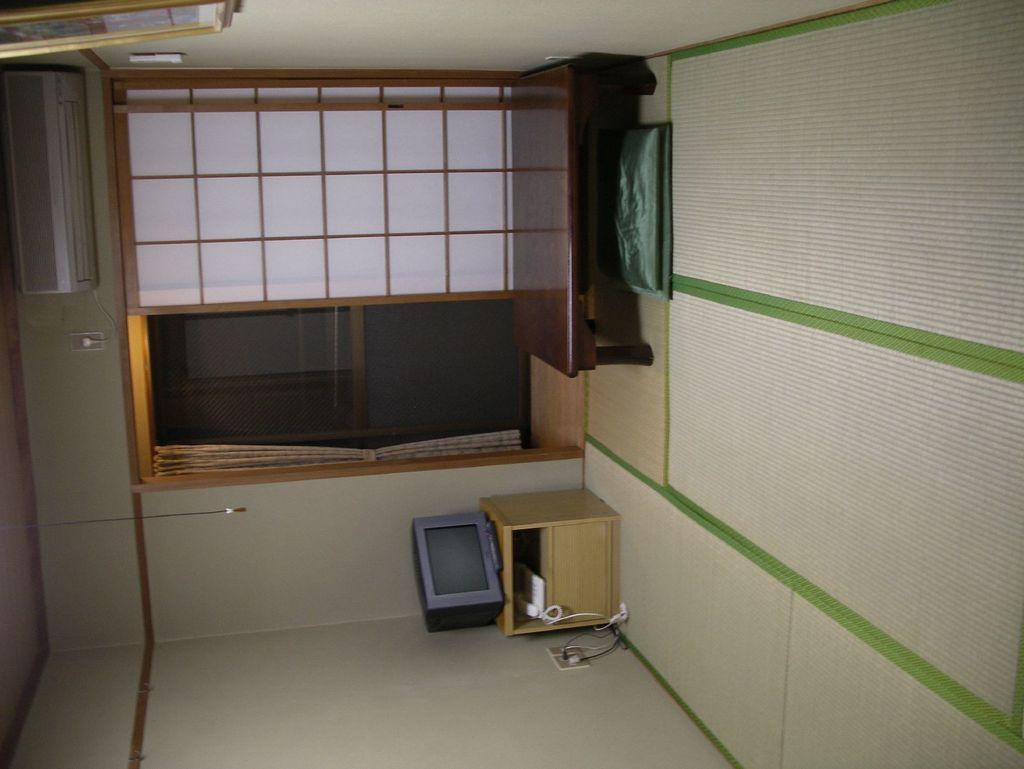door: (114, 86, 522, 292)
